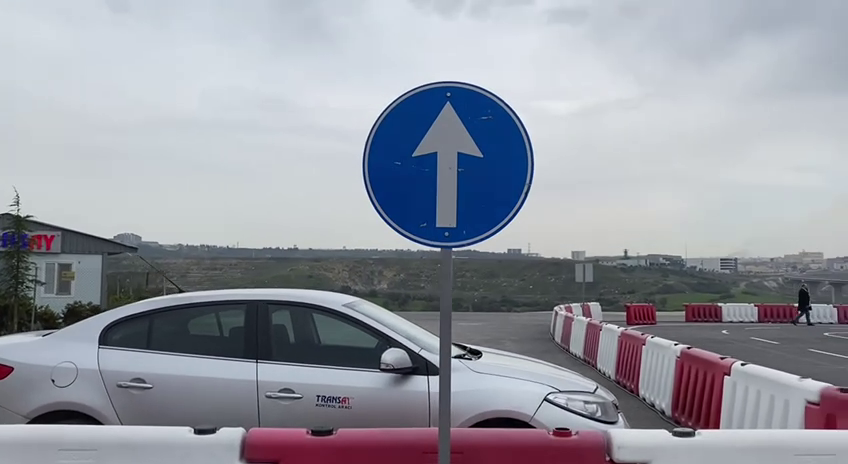forward: (356, 76, 538, 254)
